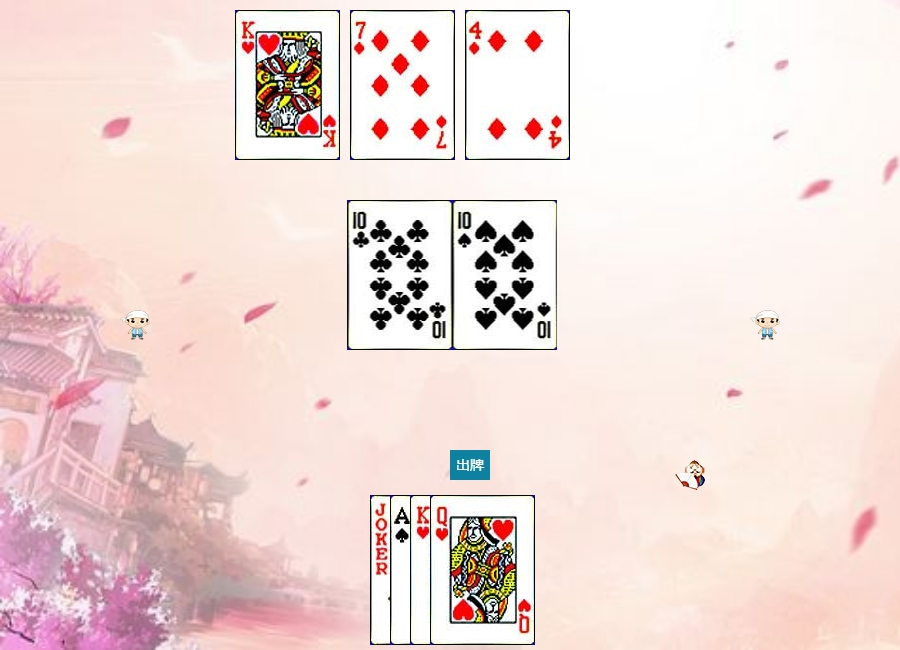10~2: (348, 200, 453, 350)
10~4: (453, 200, 558, 350)
12~3: (430, 495, 535, 645)
13~3: (235, 10, 340, 160), (410, 495, 515, 645)
14~4: (390, 495, 495, 645)
18~4: (370, 495, 475, 645)
4~1: (465, 10, 570, 160)
7~1: (350, 10, 455, 160)
